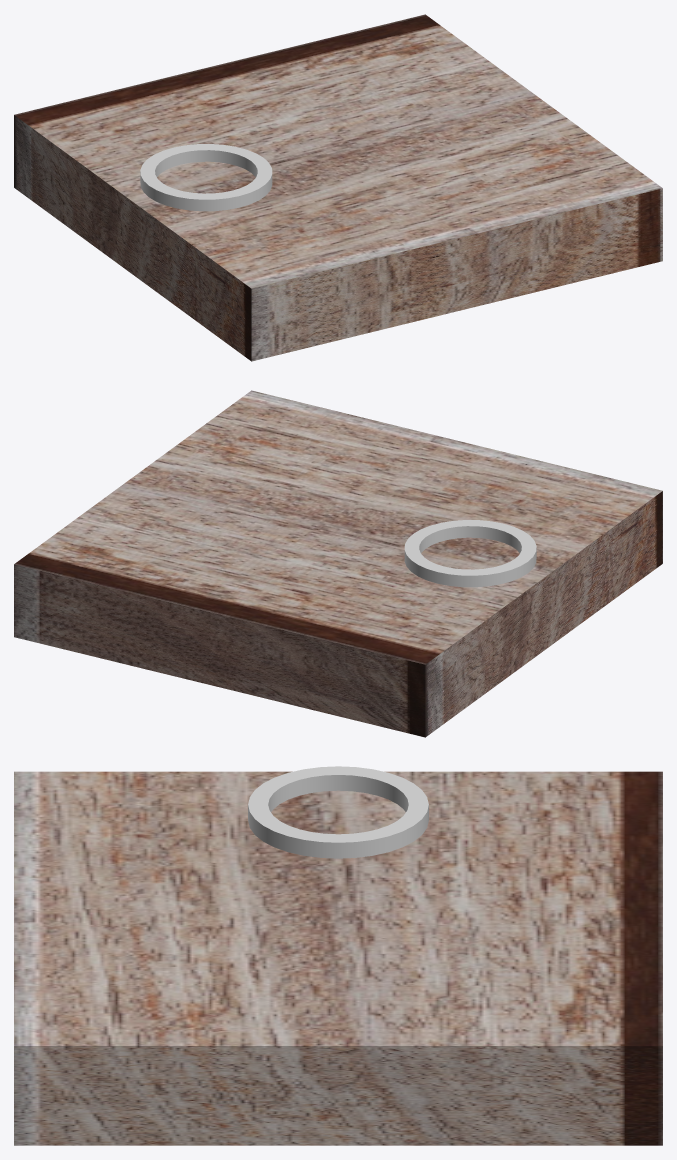
Rendered from trapdoor.fbx.
3 views of the same model, one above another, from view 1: azimuth 30°, elevation 25°; view 2: azimuth 150°, elevation 25°; view 3: azimuth 270°, elevation 25° (orthographic). The views are drawn at different scales.
Visible parts, largest first — view 1: Cube, Cylinder; view 2: Cube, Cylinder; view 3: Cube, Cylinder.
Boxes of the visible parts, left/top/right/bottom form: Cube: left=14, top=14, right=662, bottom=361; Cylinder: left=140, top=144, right=272, bottom=211; Cube: left=14, top=390, right=662, bottom=737; Cylinder: left=404, top=520, right=536, bottom=587; Cube: left=14, top=771, right=662, bottom=1145; Cylinder: left=248, top=766, right=428, bottom=858.
Size of the model in its own units: 404 by 79.67 by 404.
